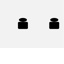human: (16, 14, 30, 31), (47, 16, 62, 31)
